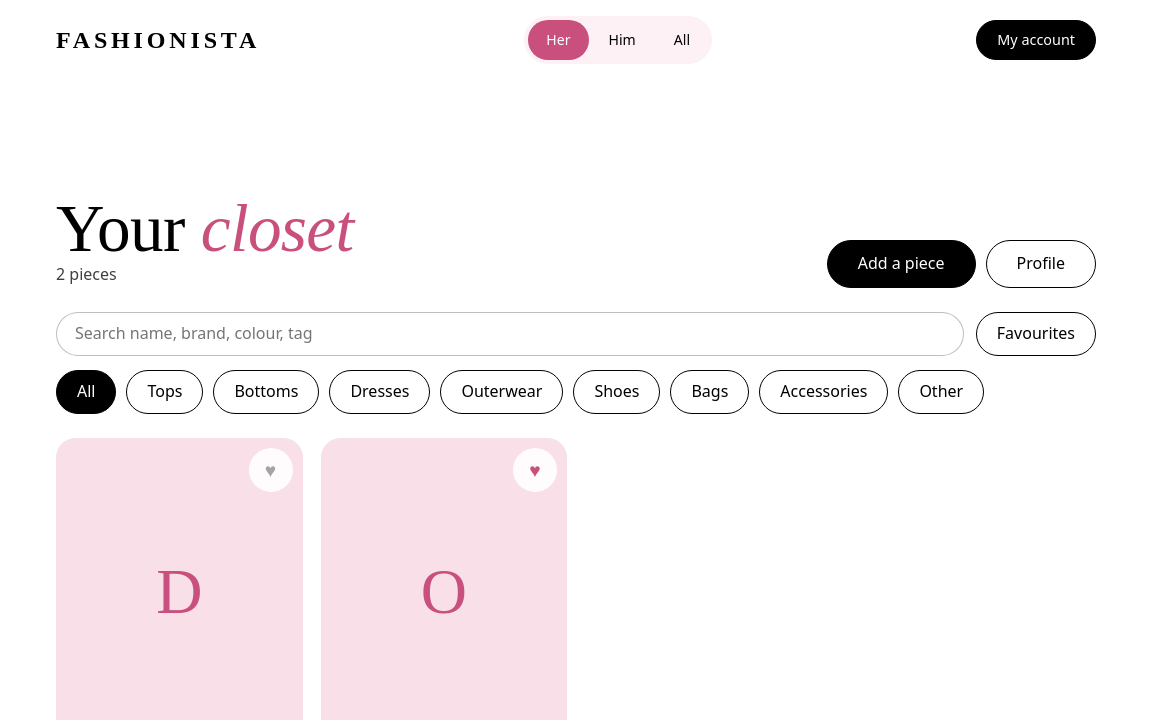
Test: Closet page › lists pieces and filters by category, search and favourites
The width and height of the screenshot is (1152, 720).
Click the button "Outerwear" at (502, 392), box [440,370,563,414]
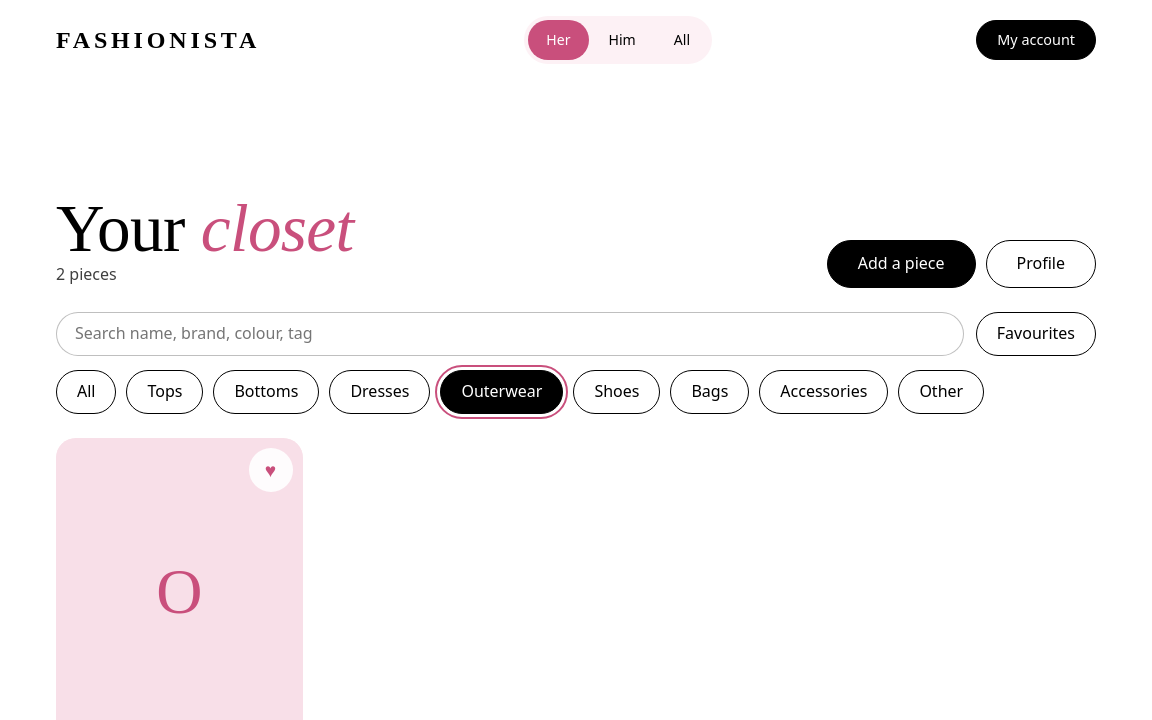
# "All" also exists in the Her / Him / All section switch, so pick the category filter's button.
Click the button "All" below "pieces" at (86, 392), box [56,370,116,414]
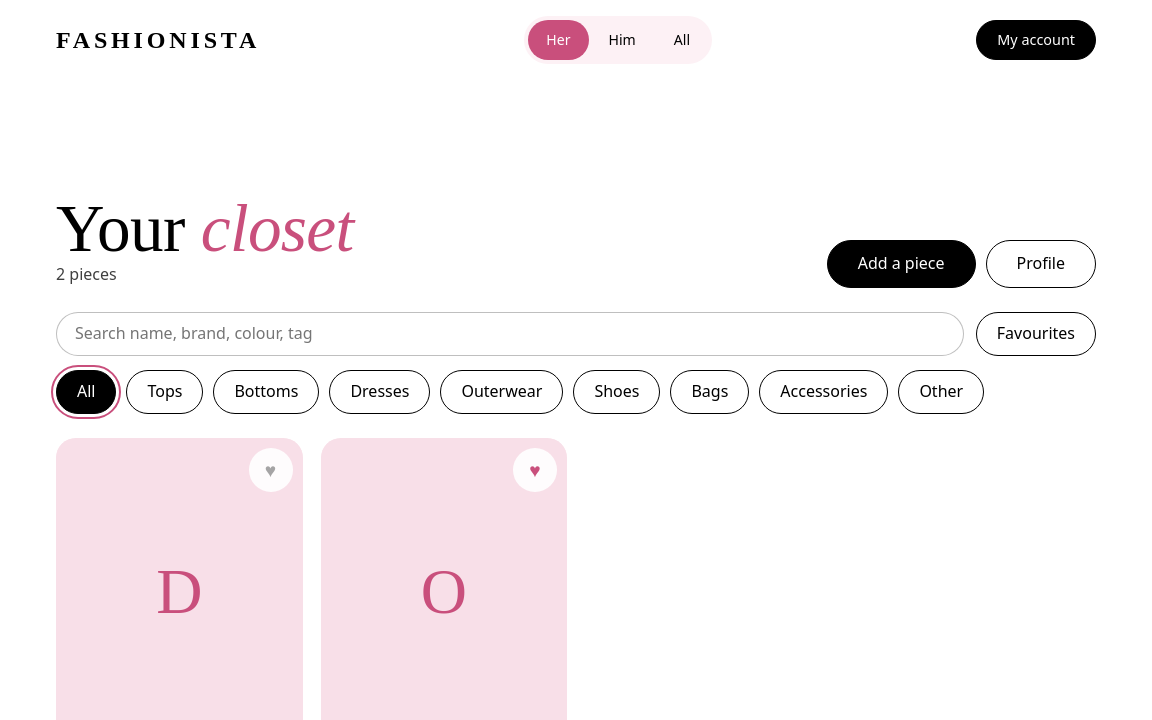
Type "zara" into the search field named "Search your closet" at (510, 334), box [56,312,964,356]
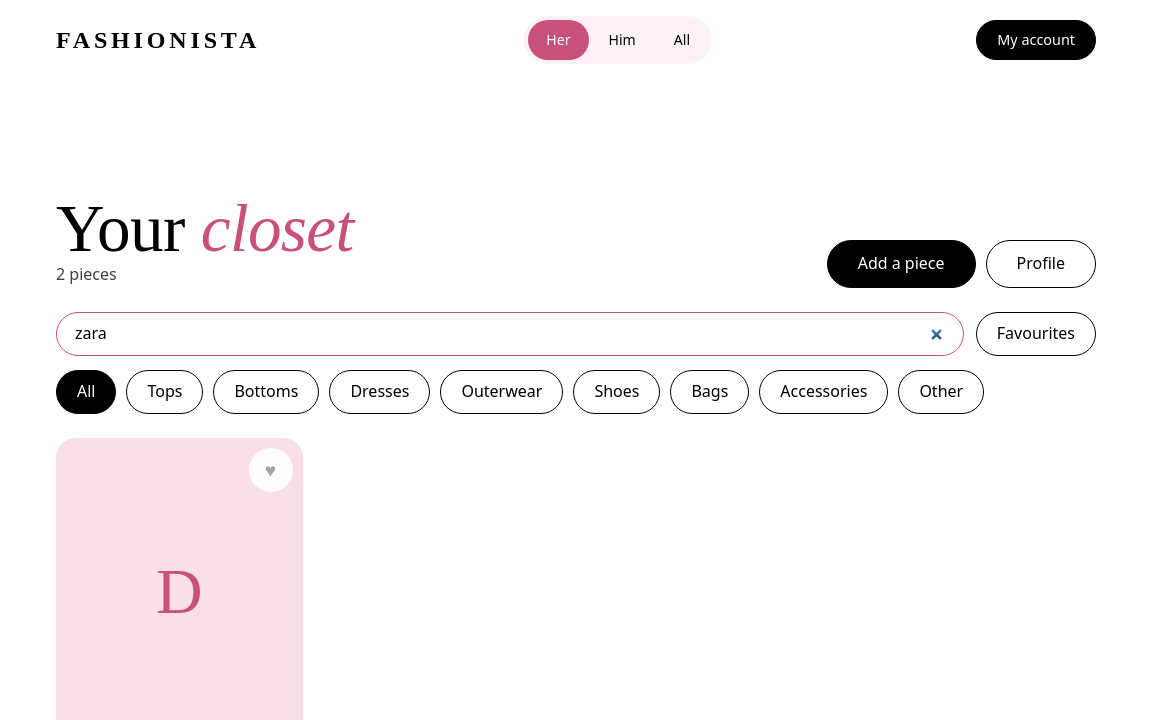
Clear the search field named "Search your closet" at (510, 334), box [56,312,964,356]
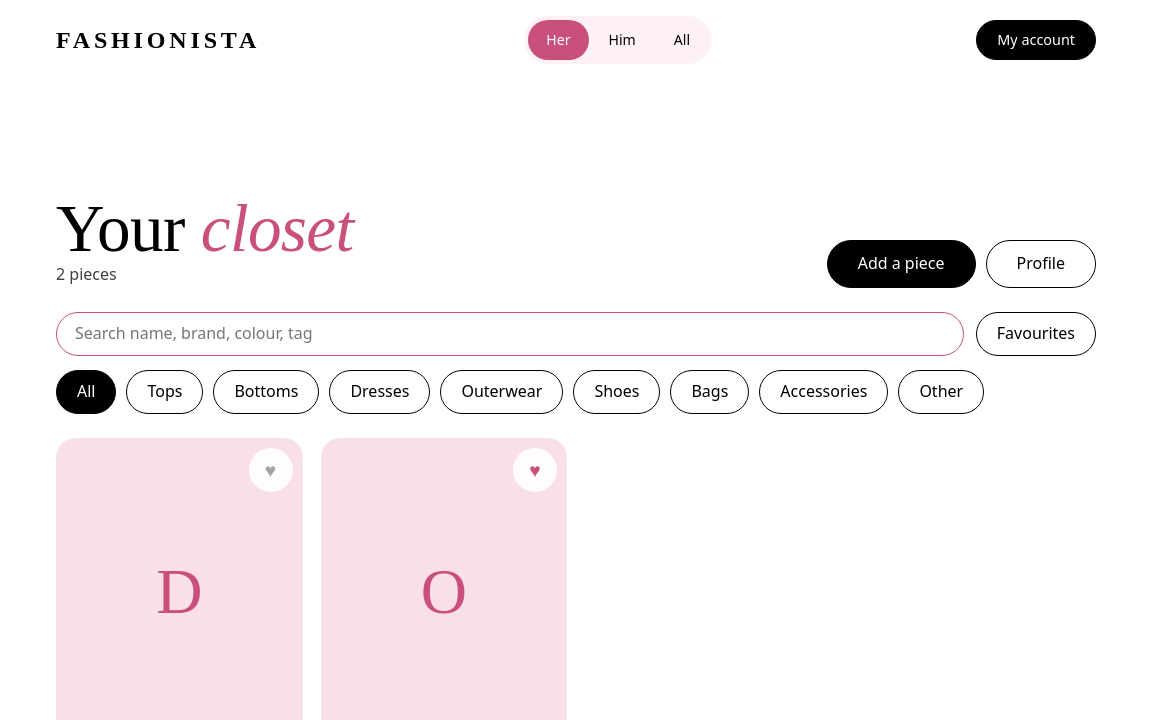
Click the button "Favourites" at (1036, 334), box [976,312,1096,356]
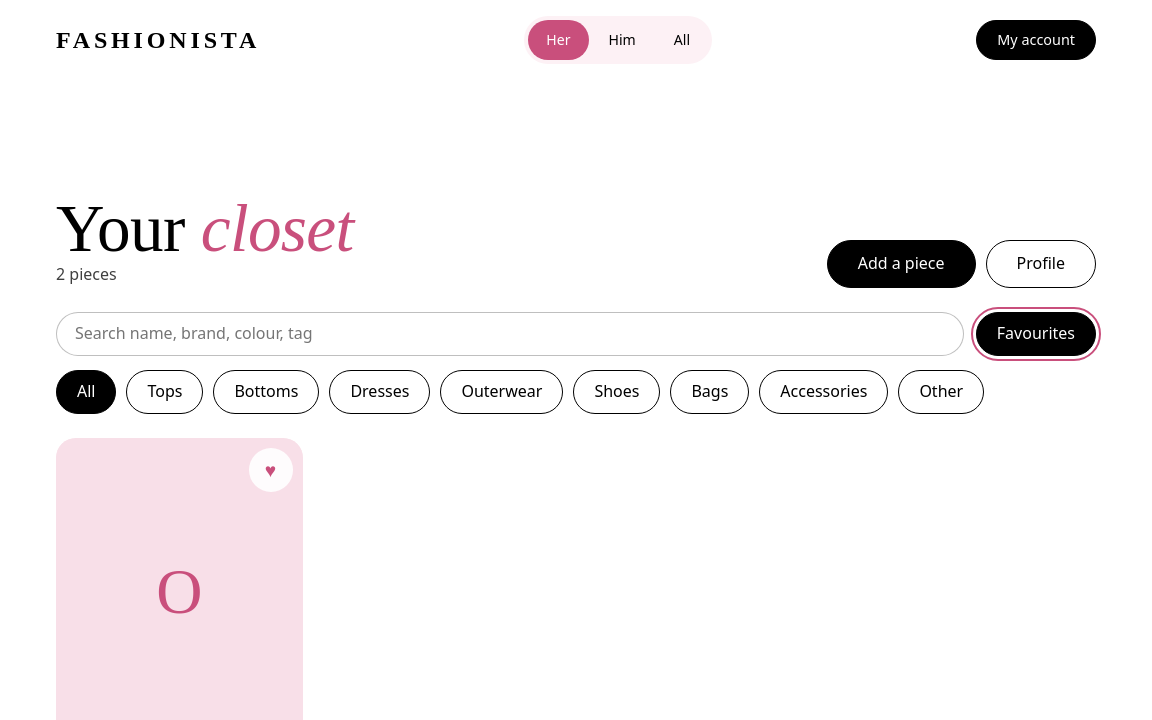
Type "nothing-like-this" into the search field named "Search your closet" at (510, 334), box [56,312,964,356]
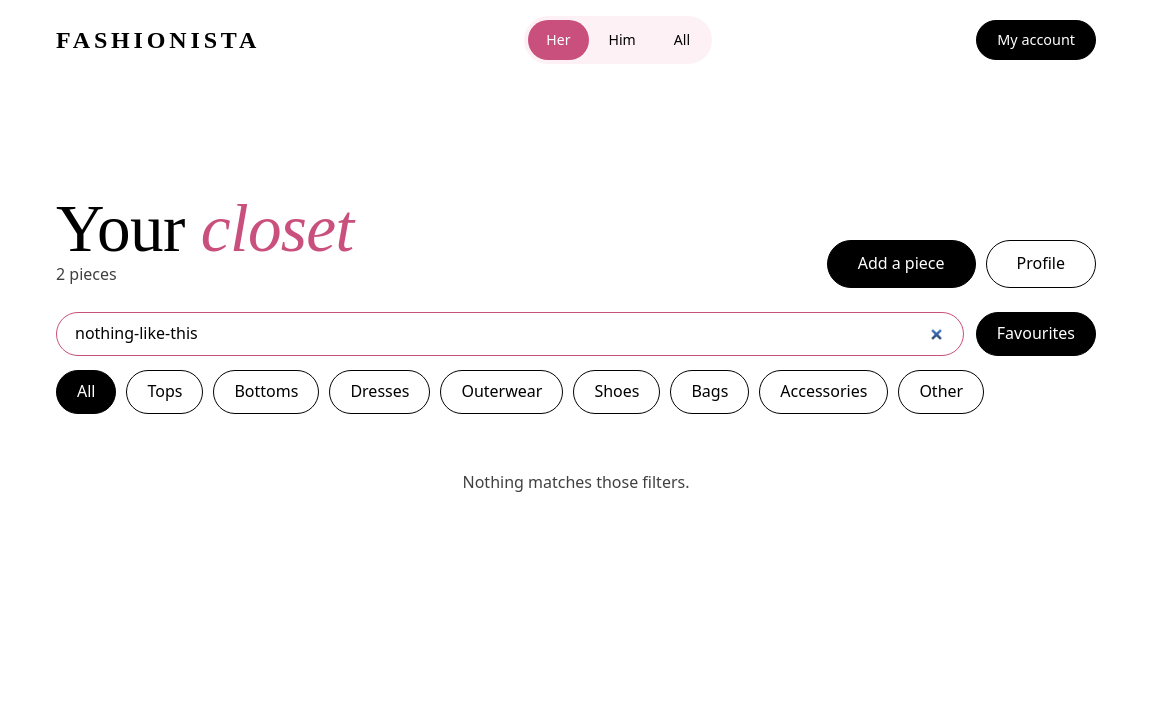
Check: the text "Nothing matches those filters." is shown, box [462,471,690,493]
